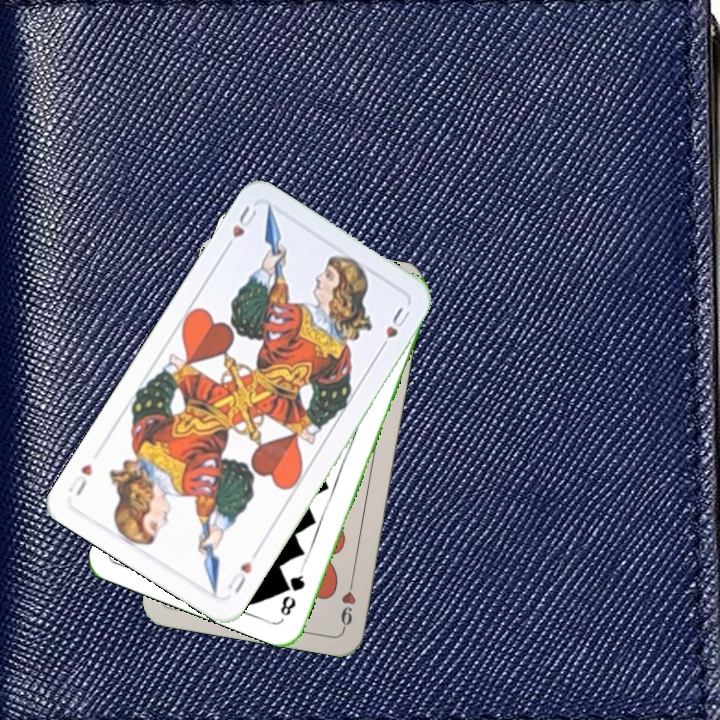G8: (276, 564, 308, 619)
H9: (336, 572, 358, 631)
HU: (220, 202, 260, 255), (223, 556, 255, 597)
